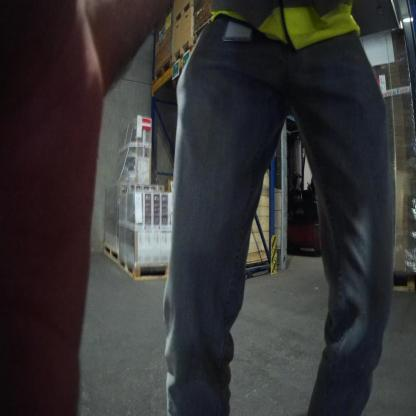forklift: (286, 130, 320, 252)
pallet: (118, 255, 170, 279), (171, 34, 193, 66), (172, 0, 193, 27), (392, 274, 416, 293), (154, 59, 172, 82), (103, 242, 118, 265)
